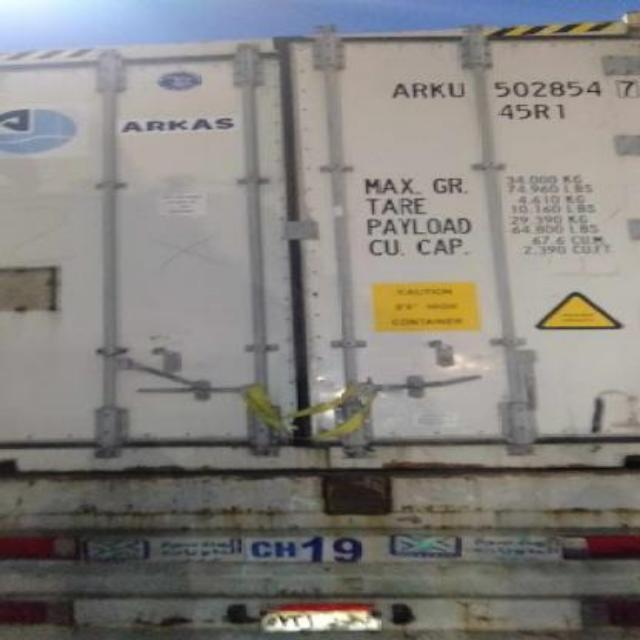0: (510, 81, 530, 97)
2: (532, 80, 552, 98)
4: (584, 80, 606, 96)
5: (488, 80, 514, 96), (566, 81, 586, 97)
7: (618, 78, 638, 100)
8: (550, 82, 568, 98)
A: (388, 83, 412, 99)
K: (428, 81, 448, 101)
R: (410, 83, 430, 99)
U: (446, 79, 470, 99)
